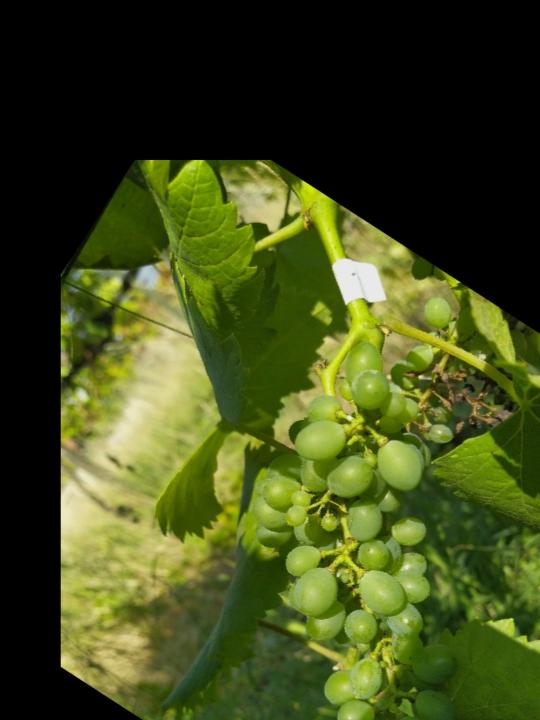grape: (163, 322, 540, 720)
